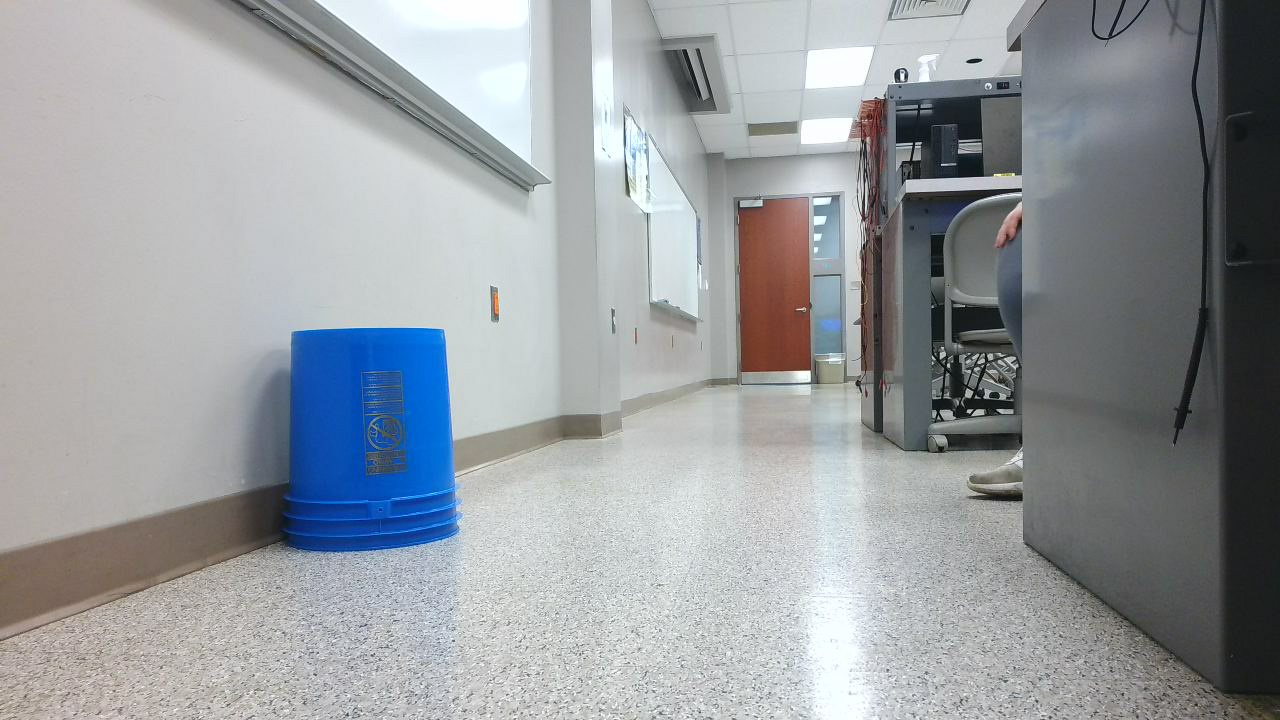blue_bucket: (279, 328, 474, 564)
